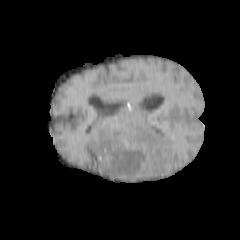glioma: (91, 120, 175, 180)
